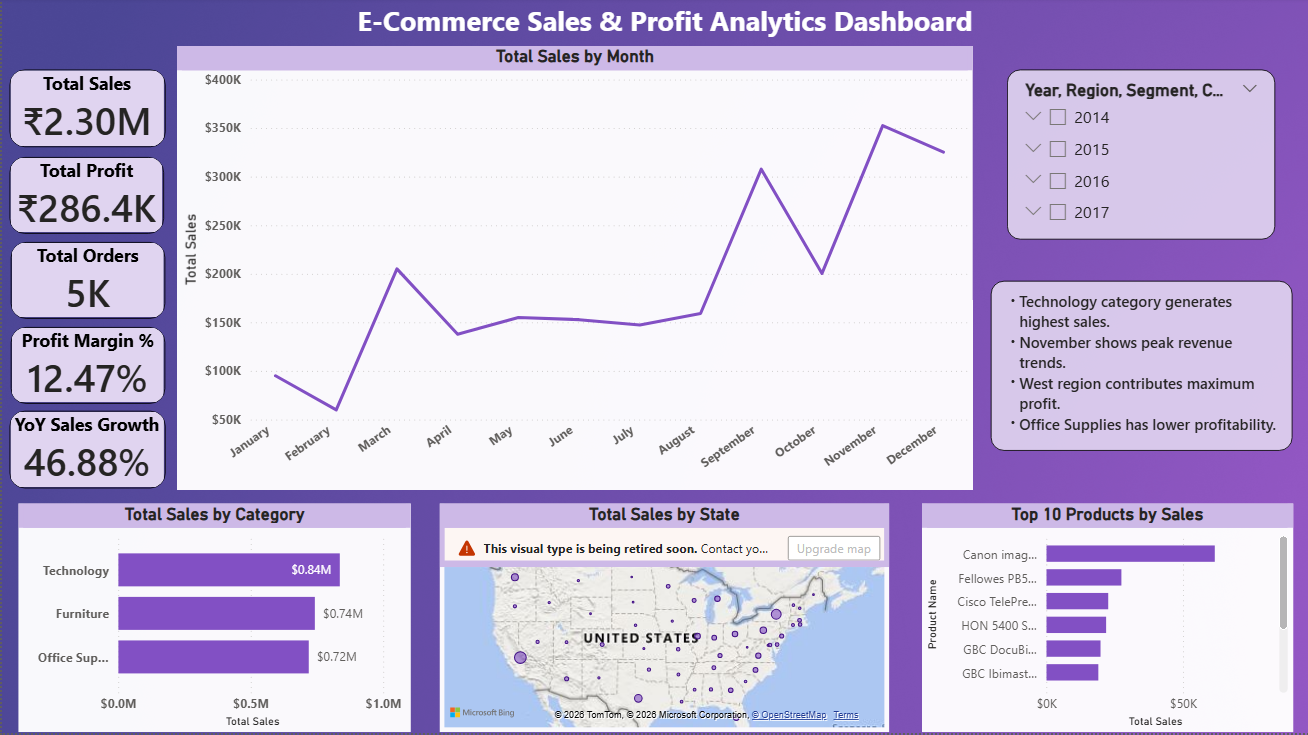

The page's visual inventory and layout, read from the dashboard file:
{"tool":"powerbi","page":{"name":"Executive Dashboard","canvas":[1280,720],"ordinal":0},"visuals":[{"type":"cardVisual","title":"Total Sales","fields":{"Data":["Sample - Superstore.Total Sales"]},"box":[7.5,71.2,152.5,76.2],"z":0},{"type":"cardVisual","title":"Total Profit","fields":{"Data":["Sample - Superstore.Total Profit"]},"box":[7.5,156.2,151.2,75],"z":1000},{"type":"cardVisual","title":"Total Orders","fields":{"Data":["Sample - Superstore.Total Orders"]},"box":[8.8,240,151.2,75],"z":2000},{"type":"cardVisual","title":"Profit Margin %","fields":{"Data":["Sample - Superstore.Profit Margin %"]},"box":[8.8,322.5,151.2,75],"z":3000},{"type":"lineChart","fields":{"Y":["Sample - Superstore.Total Sales"],"Category":["DateTable.Month"]},"box":[171.2,47.5,778.8,433.8],"z":4000},{"type":"clusteredBarChart","fields":{"Category":["Sample - Superstore.Category"],"Y":["Sample - Superstore.Total Sales"]},"box":[15.7,495.7,384.3,224.3],"z":5000},{"type":"map","fields":{"Category":["Sample - Superstore.State","Sample - Superstore.Region"],"Size":["Sample - Superstore.Total Sales"]},"box":[428.6,495.7,440,224.3],"z":6000},{"type":"slicer","fields":{"Values":["DateTable.Year","Sample - Superstore.Region","Sample - Superstore.Segment","Sample - Superstore.Category"]},"box":[983.8,71.2,262.5,166.2],"z":7000},{"type":"textbox","box":[318.8,0,658.8,47.5],"z":8000},{"type":"clusteredBarChart","title":"Top 10 Products by Sales","fields":{"Category":["Sample - Superstore.Product Name"],"Y":["Sample - Superstore.Total Sales"]},"box":[900,495.7,362.9,224.3],"z":9000},{"type":"cardVisual","fields":{"Data":["Sample - Superstore.YoY Sales Growth"]},"box":[7.5,405,152.5,76.2],"z":10000},{"type":"textbox","box":[967.5,277.5,295,166.2],"z":11000}]}

Visuals, with their boxes in screenshot pixels (x1, y1, x2, y2), scaled from the page's 1280x720 canvas onto the 1308x735 screenshot:
"Total Sales" cardVisual: 8,73,164,150
"Total Profit" cardVisual: 8,159,162,236
"Total Orders" cardVisual: 9,245,164,322
"Profit Margin %" cardVisual: 9,329,164,406
lineChart - Sample - Superstore.Total Sales x DateTable.Month: 175,48,971,491
clusteredBarChart - Sample - Superstore.Category x Sample - Superstore.Total Sales: 16,506,409,734
map - Sample - Superstore.State x Sample - Superstore.Region: 438,506,888,734
slicer - DateTable.Year x Sample - Superstore.Region: 1005,73,1274,242
textbox: 326,0,999,48
"Top 10 Products by Sales" clusteredBarChart: 920,506,1291,734
cardVisual - Sample - Superstore.YoY Sales Growth: 8,413,164,491
textbox: 989,283,1290,453
